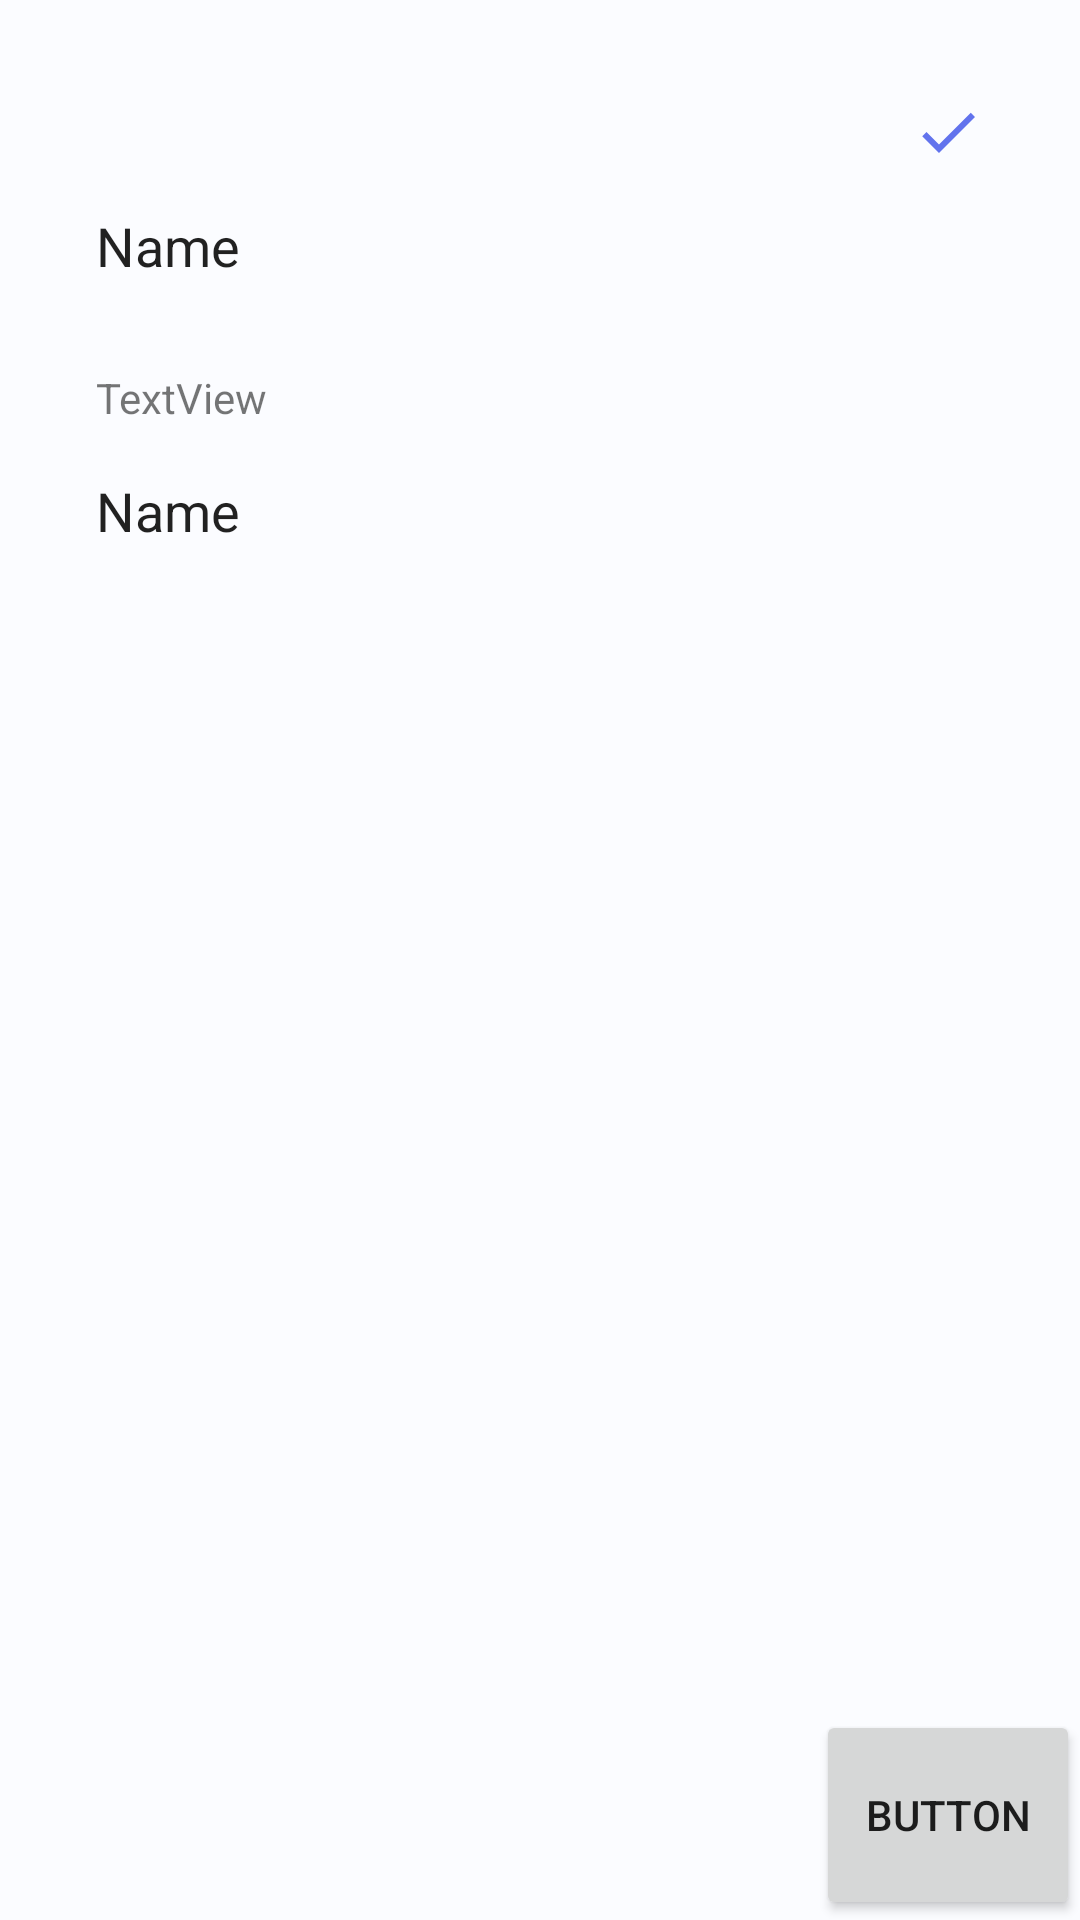

Point at icon controls on the screen. Image size 1080x1920, points as (x=x, y=y).
check: (x=948, y=133)
